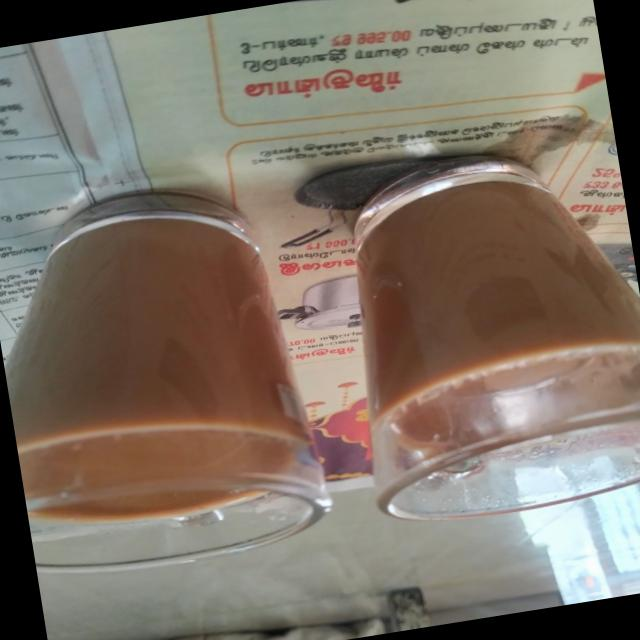glass-VX4N: (0, 169, 338, 583), (318, 129, 640, 534)
